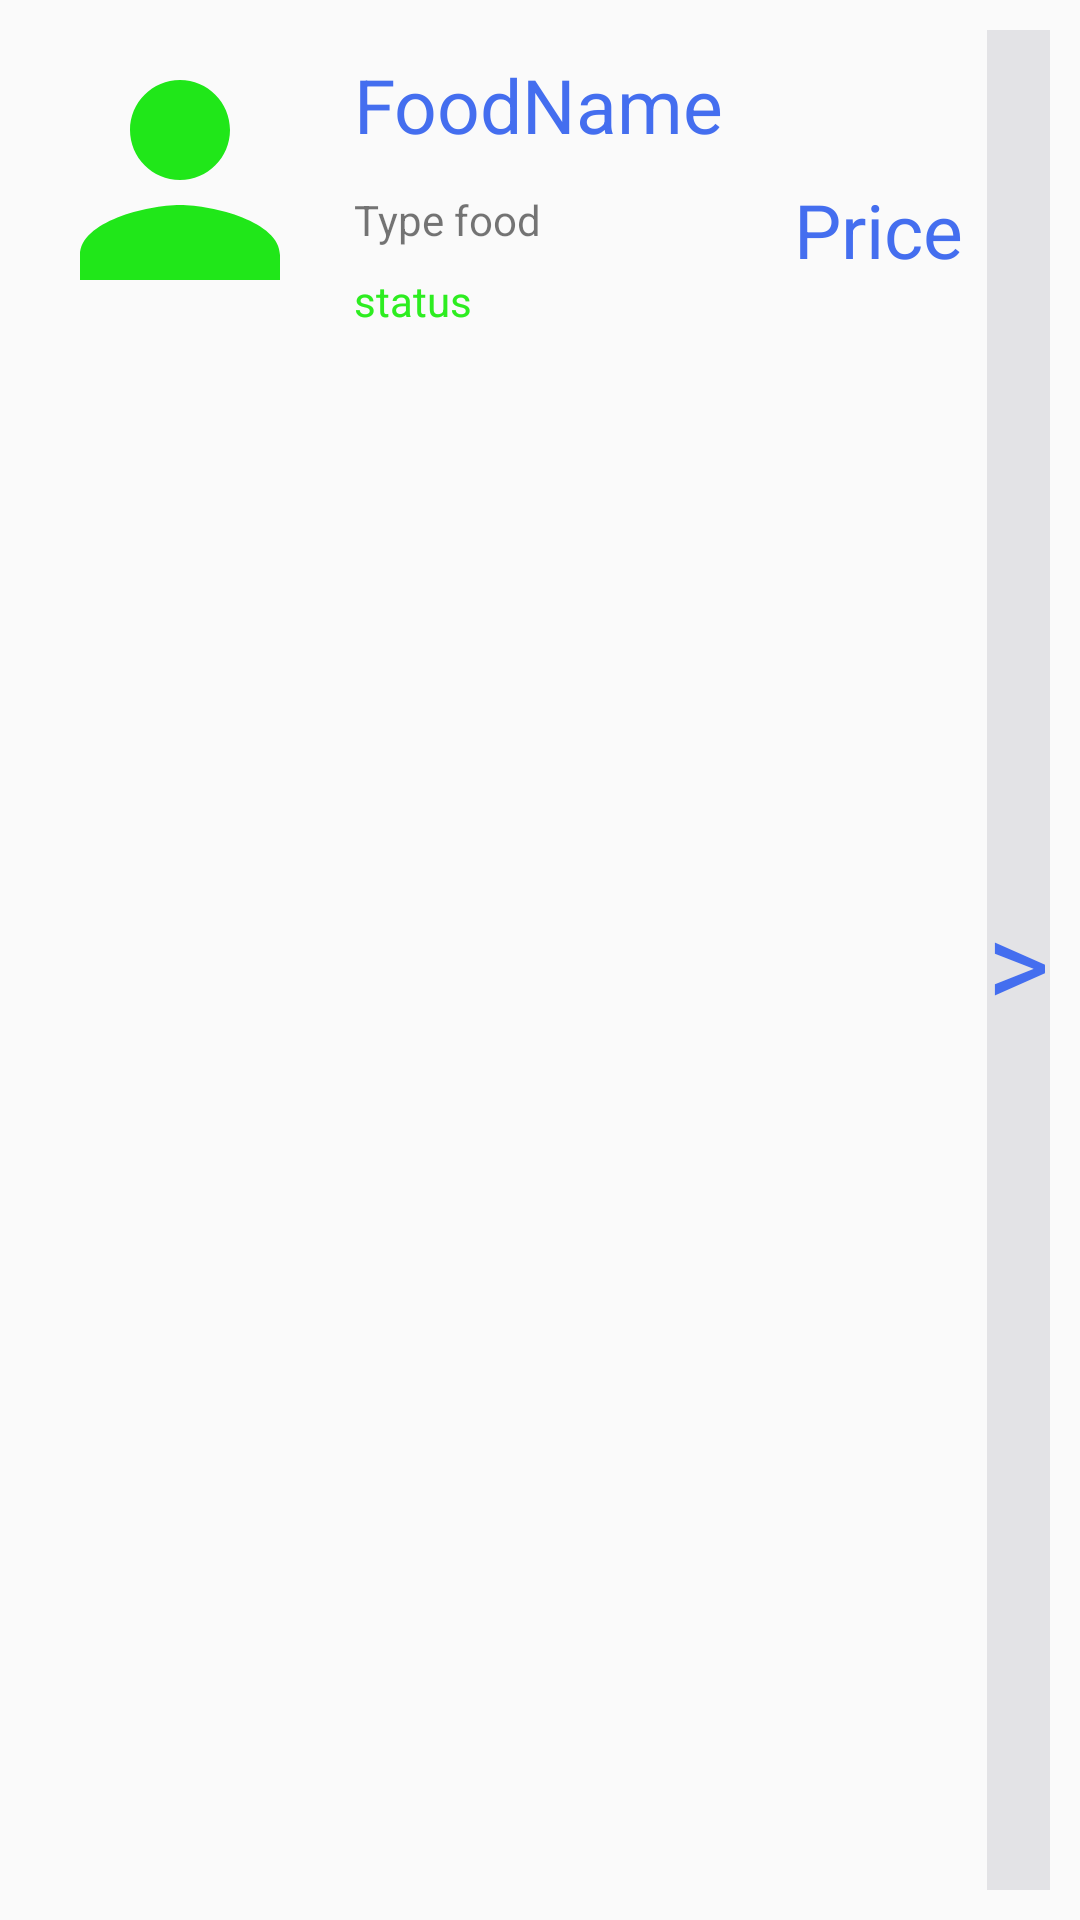

Locate icon controls on the screen. Image size 1080 × 1920, boxes as BBox(x1, y1, x2, y2).
customer: BBox(80, 80, 280, 280)
